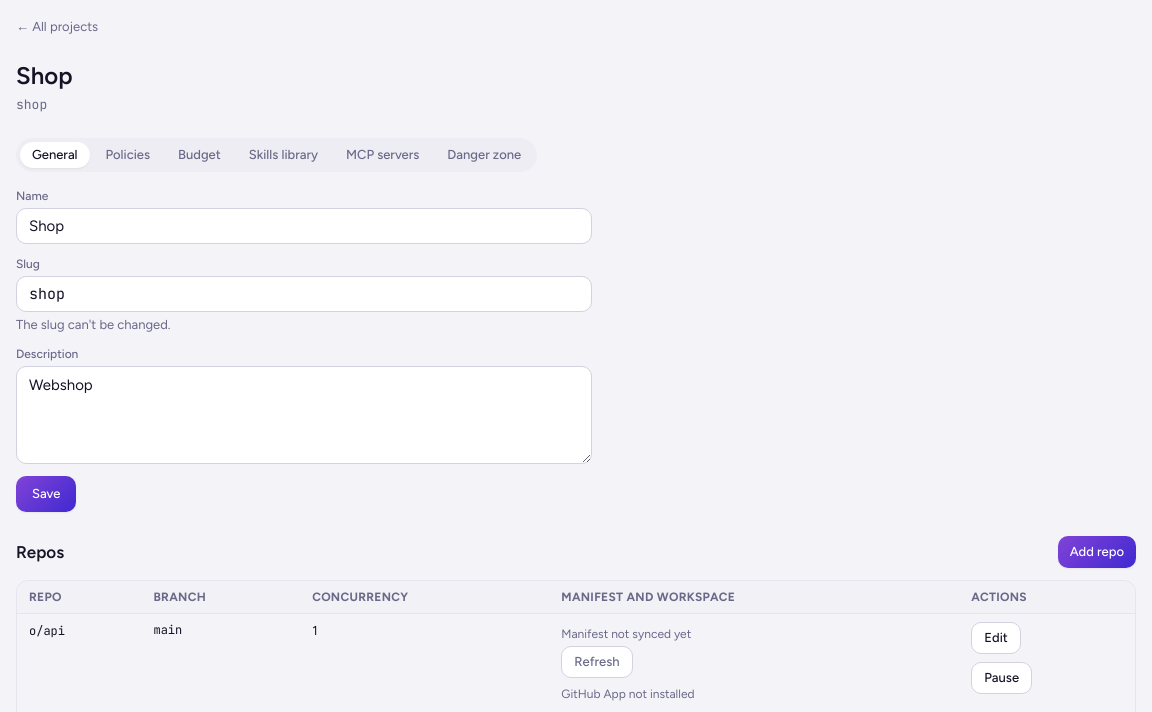
Test case: ProjectSettingsView › Budget tab › shows current spend, UTC resets and the route project id budget beside the fields
What coordinates should you click on to do the following:
click the tab "Budget"
I would click on:
 (199, 155)
Its box is x1=166 y1=142 x2=233 y2=168.
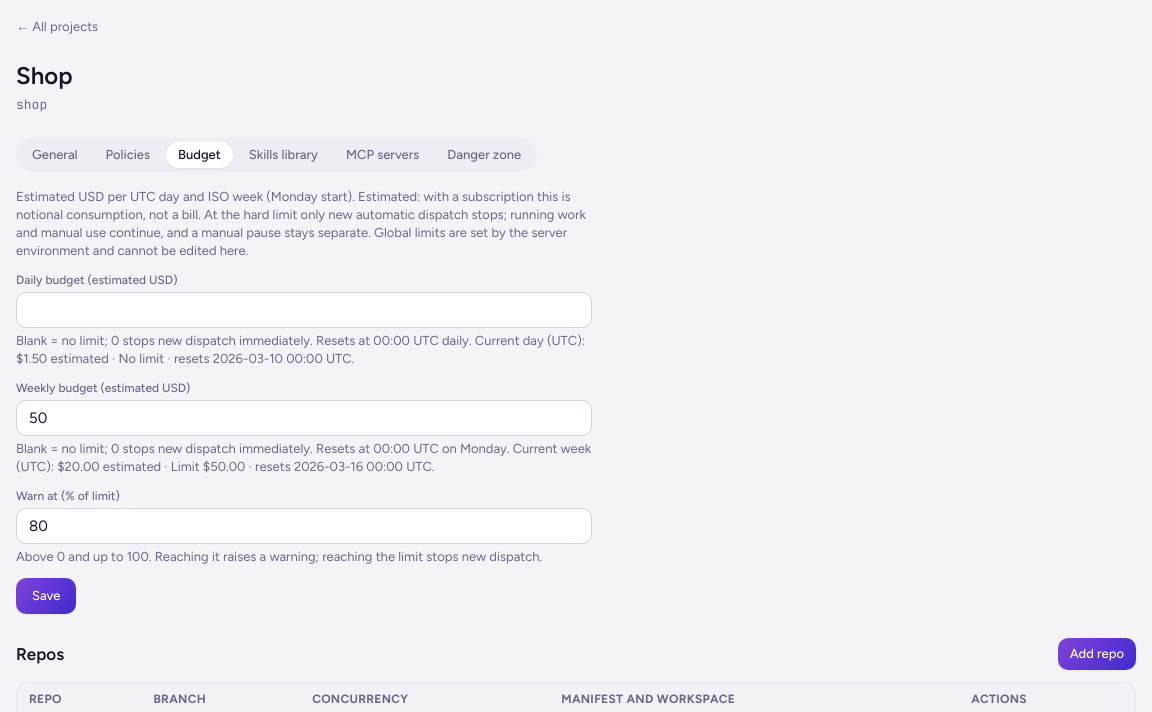
Expected: the field labelled "Daily budget (estimated USD)" is empty, x1=16 y1=292 x2=592 y2=328
Expected: the field labelled "Weekly budget (estimated USD)" holds "50", x1=16 y1=400 x2=592 y2=436
Expected: the text "Global limits are set by the server environment" is shown, x1=16 y1=189 x2=586 y2=258
